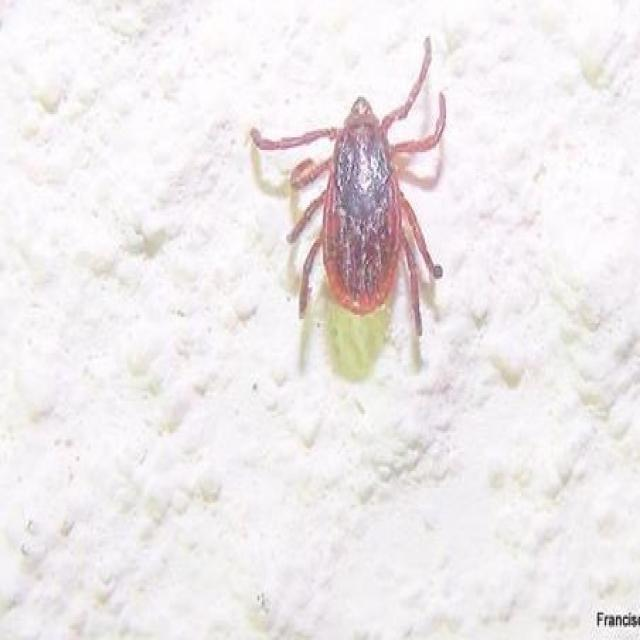Rhipicephalus Sanguineus-F: (251, 36, 446, 338)
